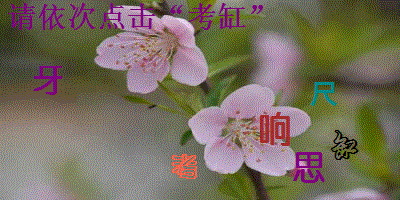result: (188, 1, 248, 32)
text: (257, 110, 293, 148), (291, 150, 325, 188), (31, 62, 64, 97), (331, 127, 361, 163), (309, 78, 339, 110), (169, 152, 198, 180)
